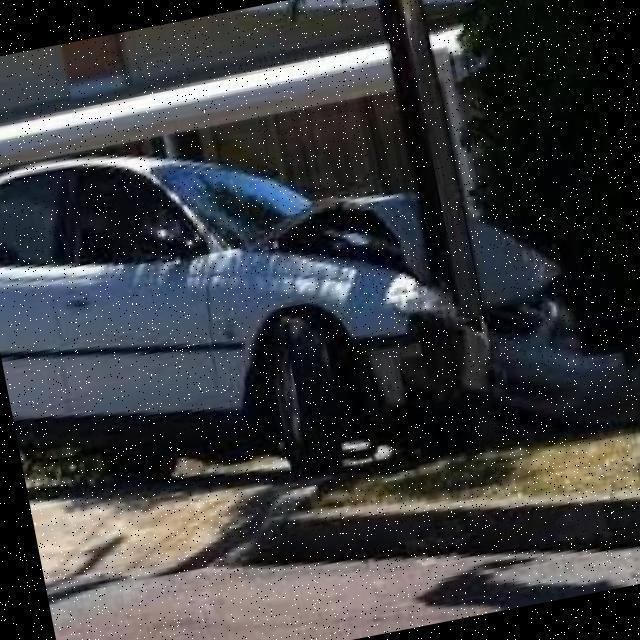accident: (0, 57, 594, 531)
